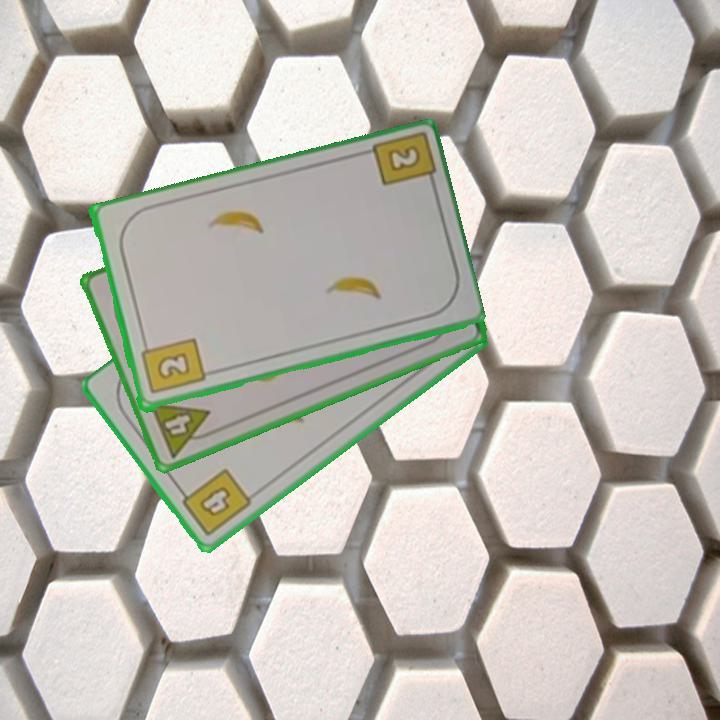2b: (137, 335, 207, 398), (384, 142, 423, 175)
4b: (174, 465, 255, 540)
4p: (146, 399, 220, 461)
